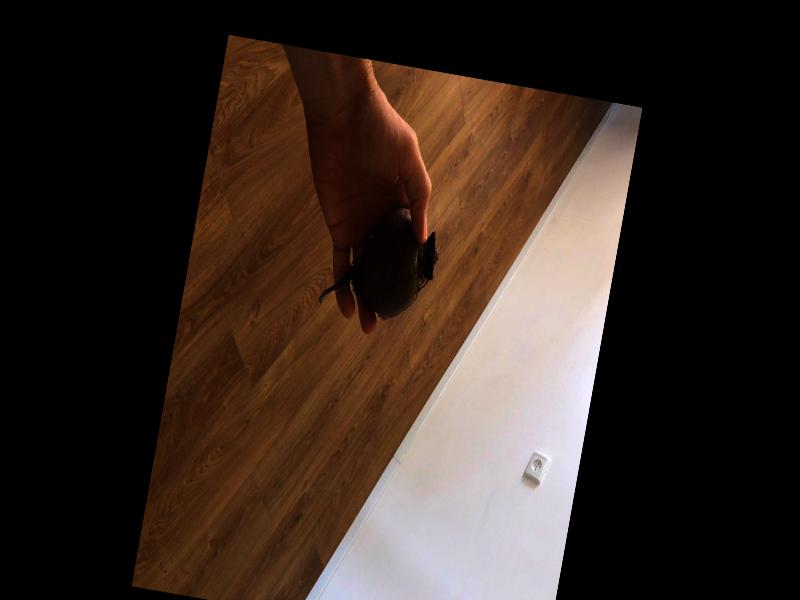Beet: (317, 196, 443, 327)
